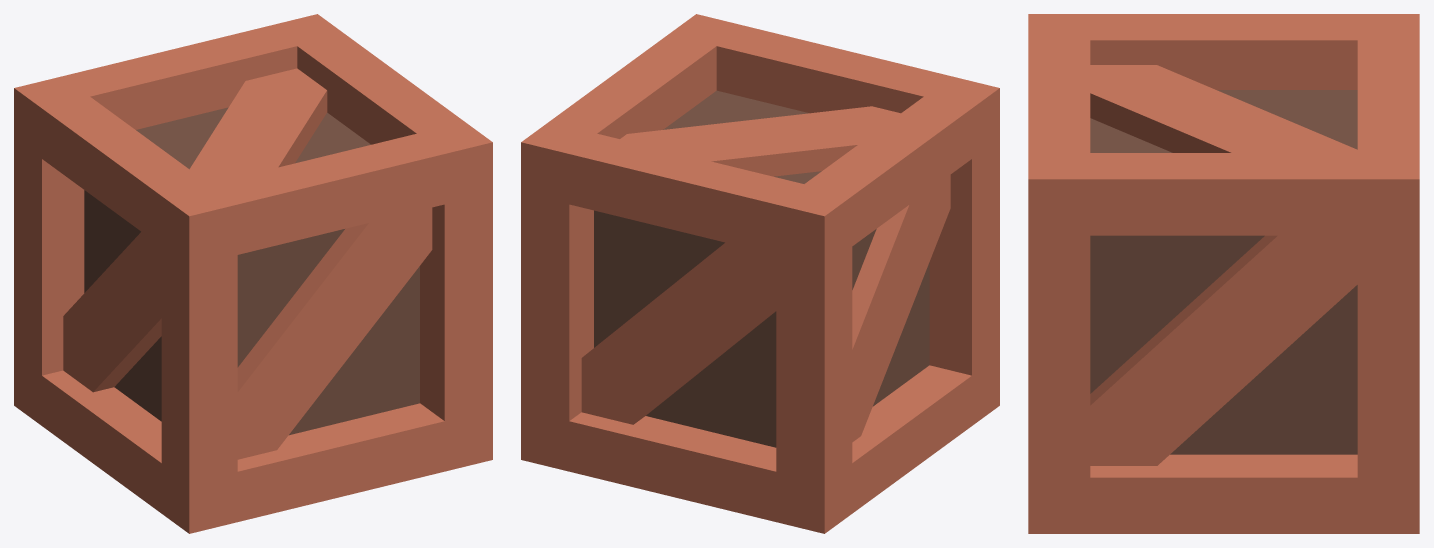
The model's file is crateFixed.fbx.
The picture shows the model from 3 angles, left to right: view 1: azimuth 30°, elevation 25°; view 2: azimuth 150°, elevation 25°; view 3: azimuth 270°, elevation 25°; orthographic projection. The views are drawn at different scales.
Visible parts, largest first — view 1: crate; view 2: crate; view 3: crate.
Boxes of the visible parts, box(x1,y1,x2,y2) form: crate: box(14, 14, 492, 533); crate: box(521, 14, 999, 533); crate: box(1028, 14, 1419, 533).
Size of the model in its own units: 50 by 50 by 50.
